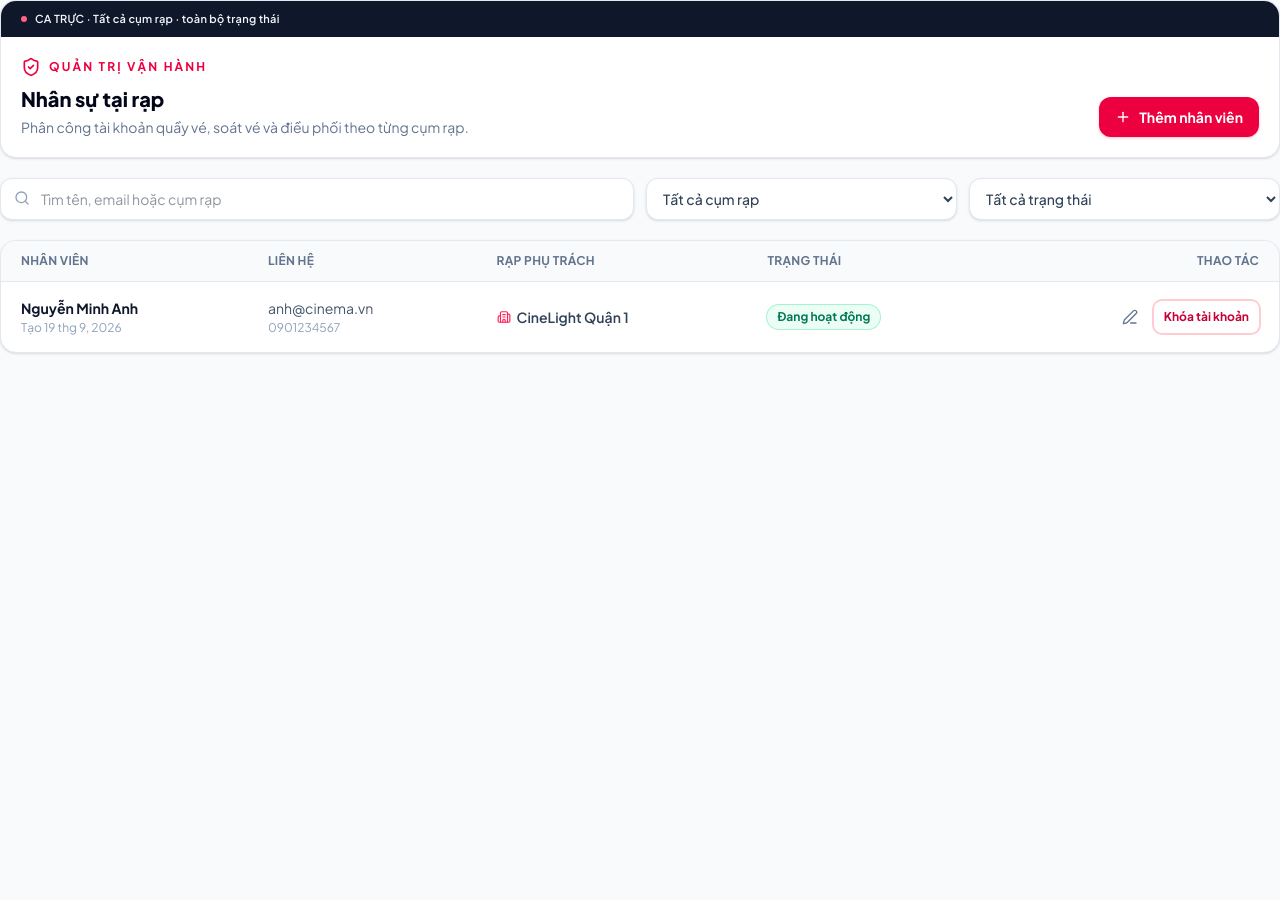
it: StaffManagement › focuses the confirmation action and restores focus after Escape closes the dialog
Click the button "Khóa tài khoản" at [1206, 317], box [1154, 301, 1259, 333]
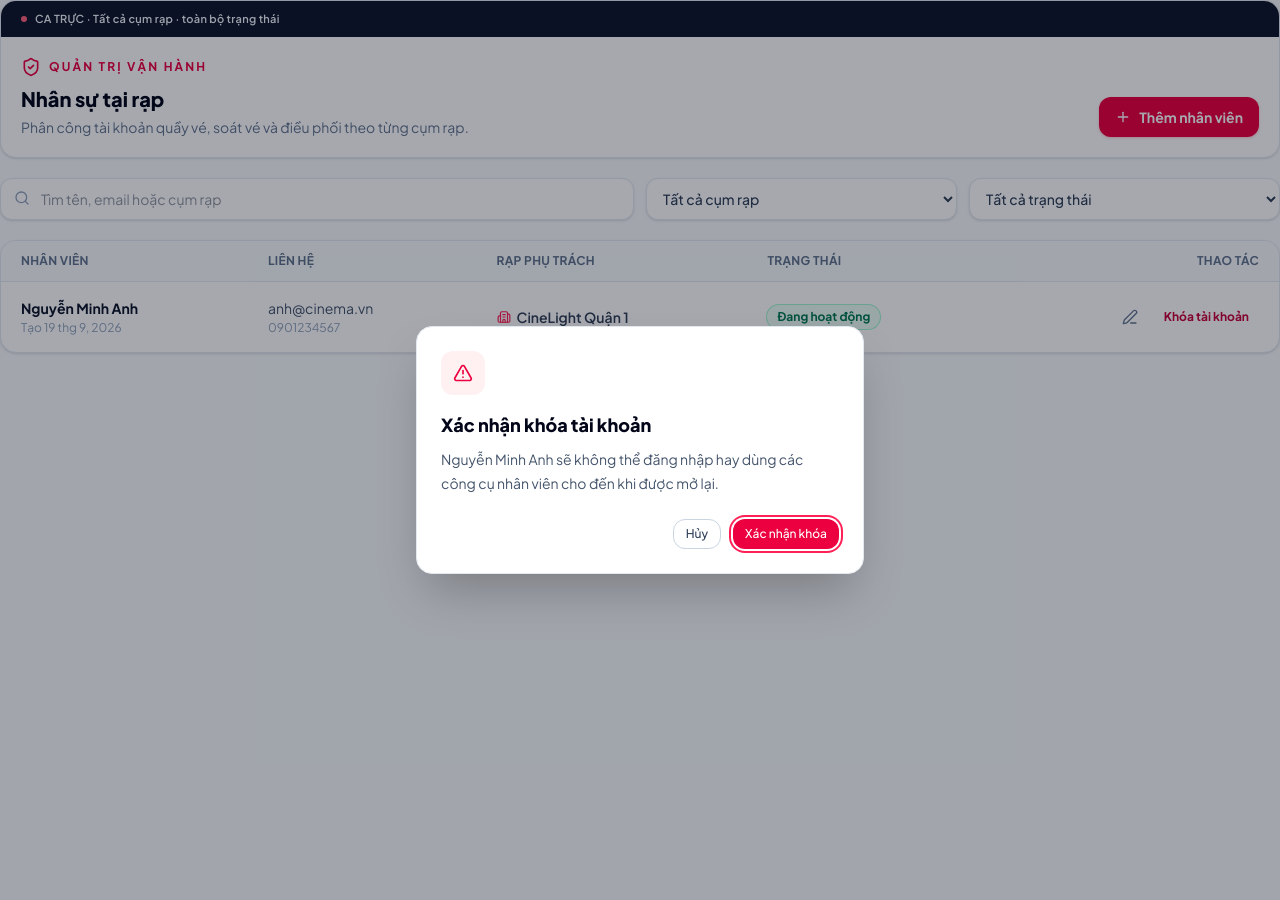
Press Escape
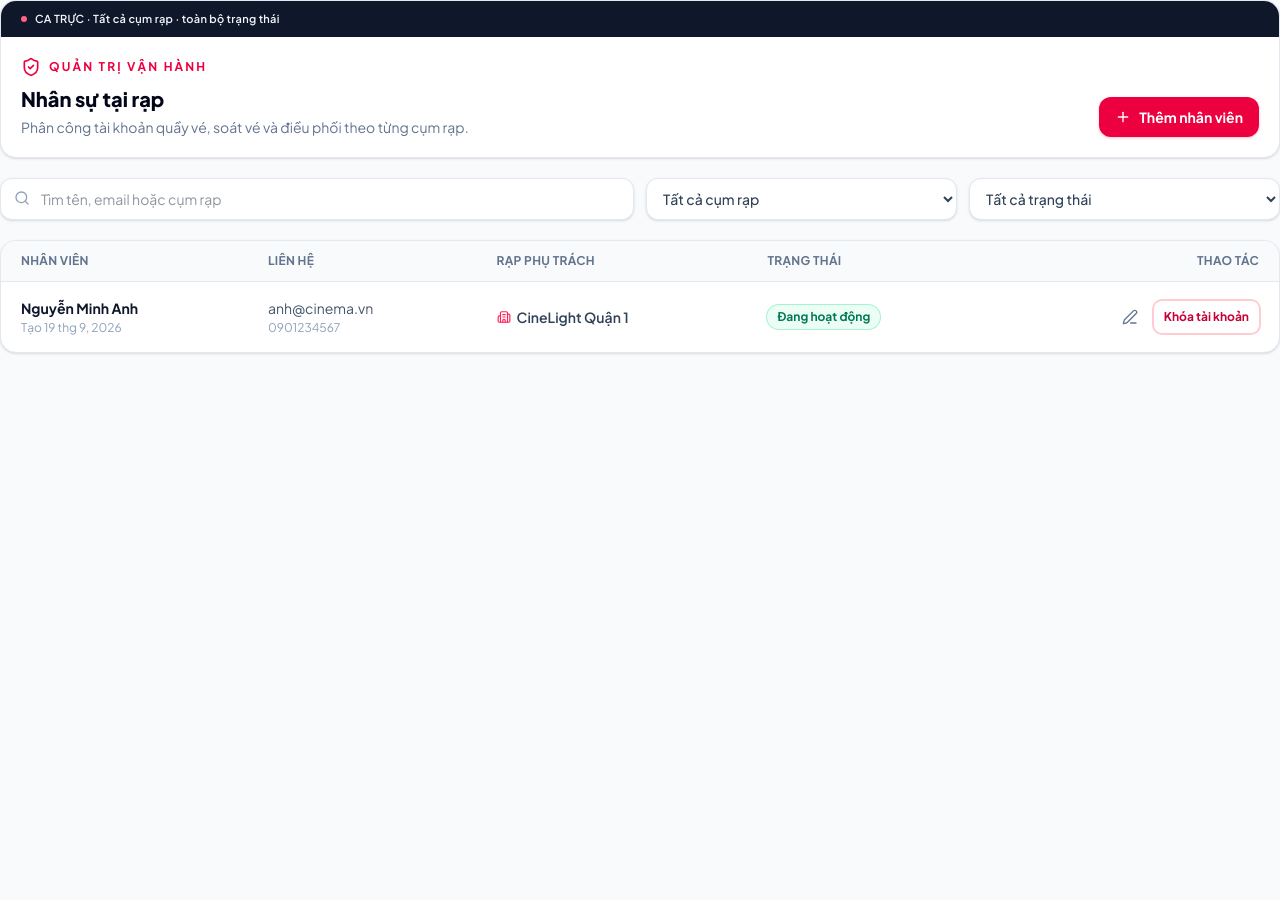
Result: the dialog is gone
